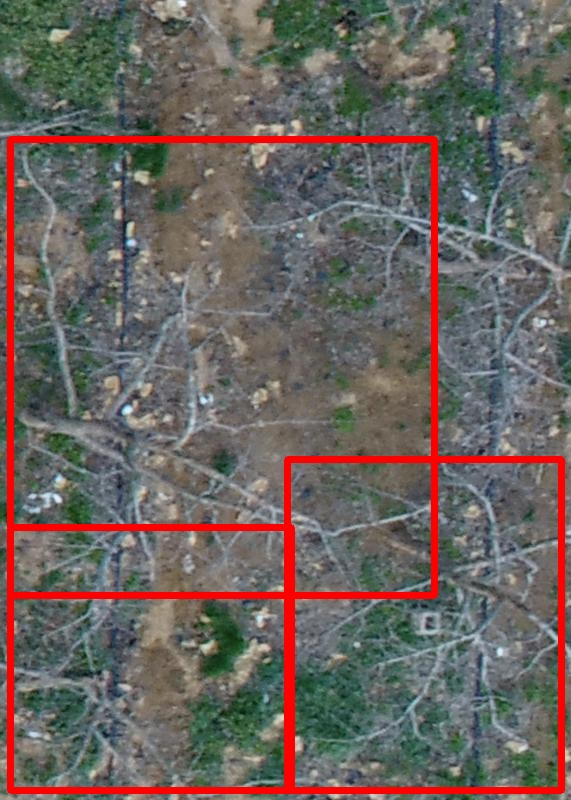apple: (10, 139, 434, 595), (287, 459, 561, 790), (10, 527, 291, 790)
